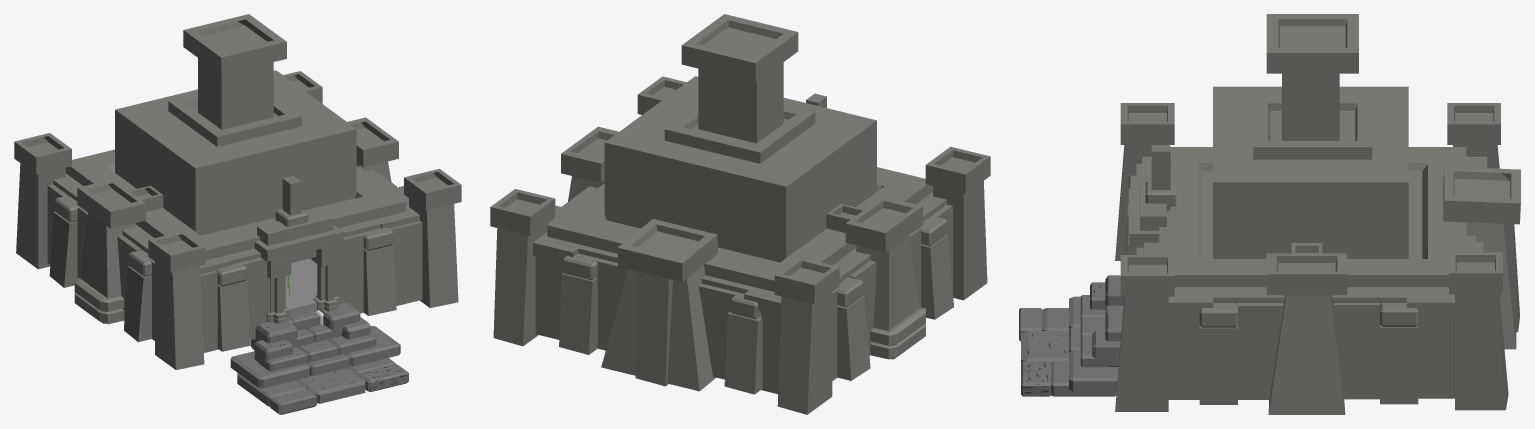
The model's file is Shindenn.fbx.
3 views of the same model, side by side, from view 1: azimuth 30°, elevation 25°; view 2: azimuth 150°, elevation 25°; view 3: azimuth 270°, elevation 25° (orthographic). The views are drawn at different scales.
Visible parts, largest first — view 1: mesh_56, mesh_60, mesh_13, mesh_58, mesh_57, mesh_29, mesh_24, mesh_59, mesh_18, mesh_19, mesh_28, mesh_27 (+45 smaller); view 2: mesh_56, mesh_60, mesh_48, mesh_24, mesh_58, mesh_57, mesh_40, mesh_49, mesh_13, mesh_59, mesh_50, mesh_18 (+28 smaller); view 3: mesh_56, mesh_60, mesh_34, mesh_40, mesh_29, mesh_58, mesh_59, mesh_49, mesh_37, mesh_57, mesh_33, mesh_35 (+31 smaller).
Part boxes in pixels (box(x1,y1,x2,y2)): mesh_56: box(115, 70, 356, 235); mesh_60: box(65, 149, 406, 260); mesh_13: box(155, 262, 204, 369); mesh_58: box(183, 14, 286, 74); mesh_57: box(198, 58, 273, 129); mesh_29: box(409, 198, 458, 307); mesh_24: box(16, 163, 65, 269); mesh_59: box(168, 94, 301, 146); mesh_18: box(80, 213, 135, 324); mesh_19: box(77, 179, 145, 228); mesh_28: box(389, 221, 422, 305); mesh_27: box(363, 244, 396, 315); mesh_56: box(604, 76, 876, 262); mesh_60: box(547, 167, 932, 291); mesh_48: box(601, 265, 715, 391); mesh_24: box(777, 292, 832, 414); mesh_58: box(681, 14, 798, 82); mesh_57: box(698, 62, 783, 143); mesh_40: box(493, 223, 547, 346); mesh_49: box(617, 219, 717, 282); mesh_13: box(933, 181, 987, 300); mesh_59: box(664, 104, 815, 163); mesh_50: box(635, 271, 672, 386); mesh_18: box(856, 235, 919, 359); mesh_56: box(1213, 86, 1408, 258); mesh_60: box(1159, 147, 1466, 287); mesh_34: box(1268, 295, 1345, 414); mesh_40: box(1455, 294, 1508, 410); mesh_29: box(1115, 296, 1168, 411); mesh_58: box(1266, 14, 1358, 73); mesh_59: box(1253, 97, 1372, 159); mesh_49: box(1443, 166, 1520, 224); mesh_37: box(1334, 303, 1379, 399); mesh_57: box(1282, 73, 1339, 140); mesh_33: box(1238, 303, 1283, 399); mesh_35: box(1266, 253, 1347, 295).
Bounding box in the file's own units: 1375 × 1194 × 1634.
Materials: 34 (34 with a texture image).
